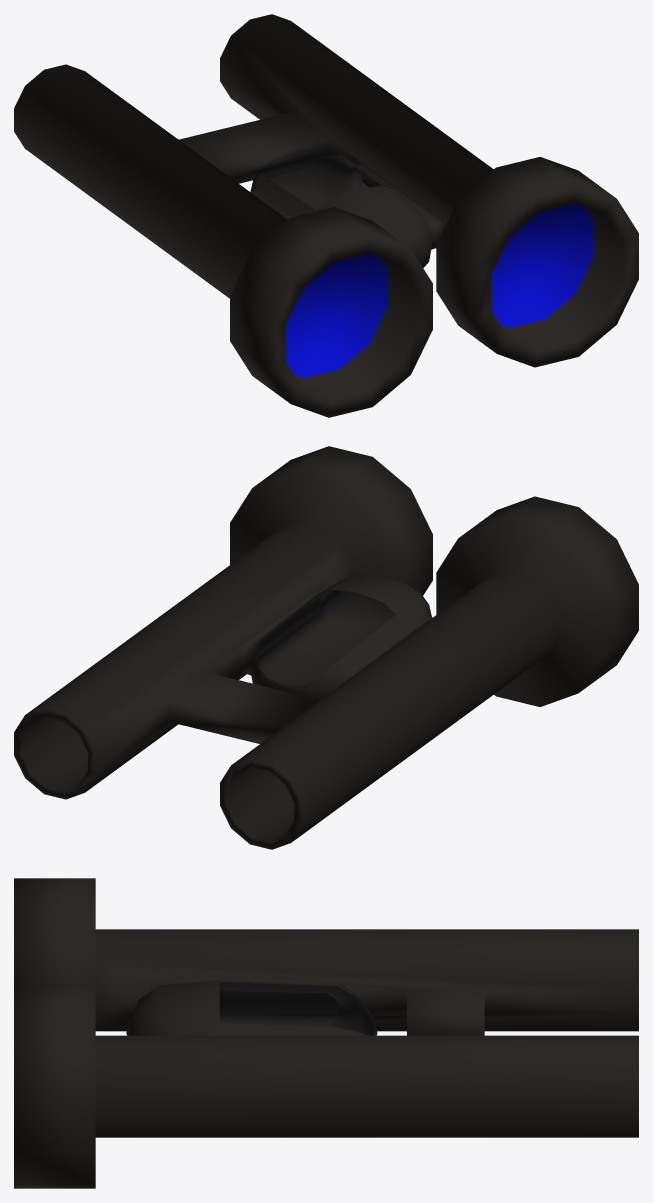
Rendered from MSFV3LowerPoly.obj.
The picture shows the model from 3 angles, top to bottom: view 1: azimuth 30°, elevation 25°; view 2: azimuth 150°, elevation 25°; view 3: azimuth 270°, elevation 25°; orthographic projection. The views are drawn at different scales.
Parts seen in each view (by area): view 1: Cylinder; view 2: Cylinder; view 3: Cylinder.
Boxes of the visible parts, <box> form: Cylinder: <box>14,14,638,417</box>; Cylinder: <box>14,446,638,849</box>; Cylinder: <box>14,878,638,1188</box>.
Size of the model in its own units: 7.19 by 3.19 by 9.95.
